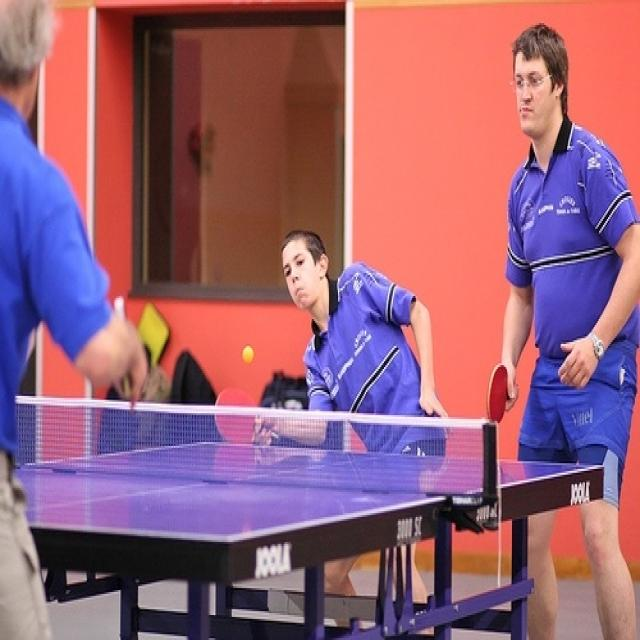TT Net: (2, 370, 510, 521)
TT Racket: (206, 385, 292, 454), (480, 356, 529, 436)
TT Table: (12, 410, 609, 561)
